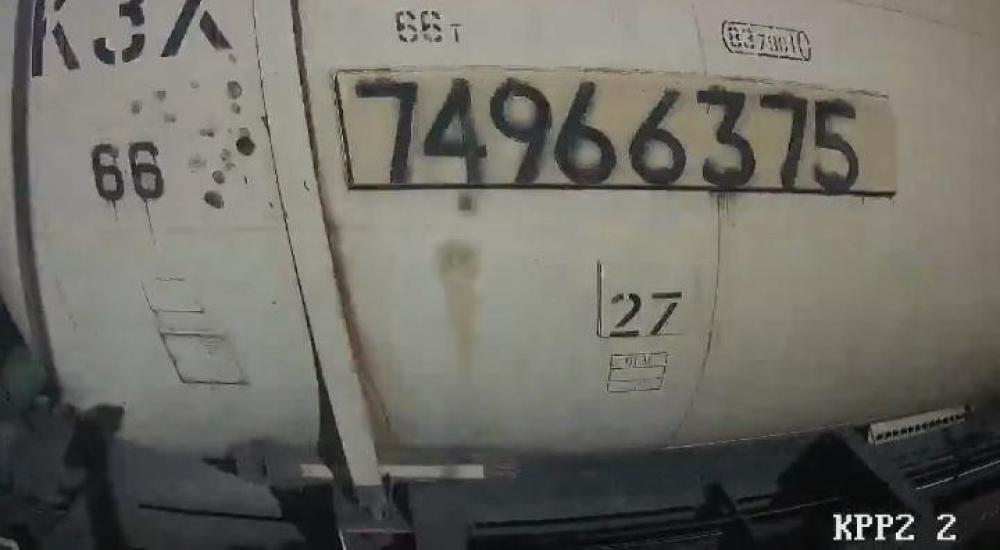Wagon-number: (353, 70, 862, 198)
